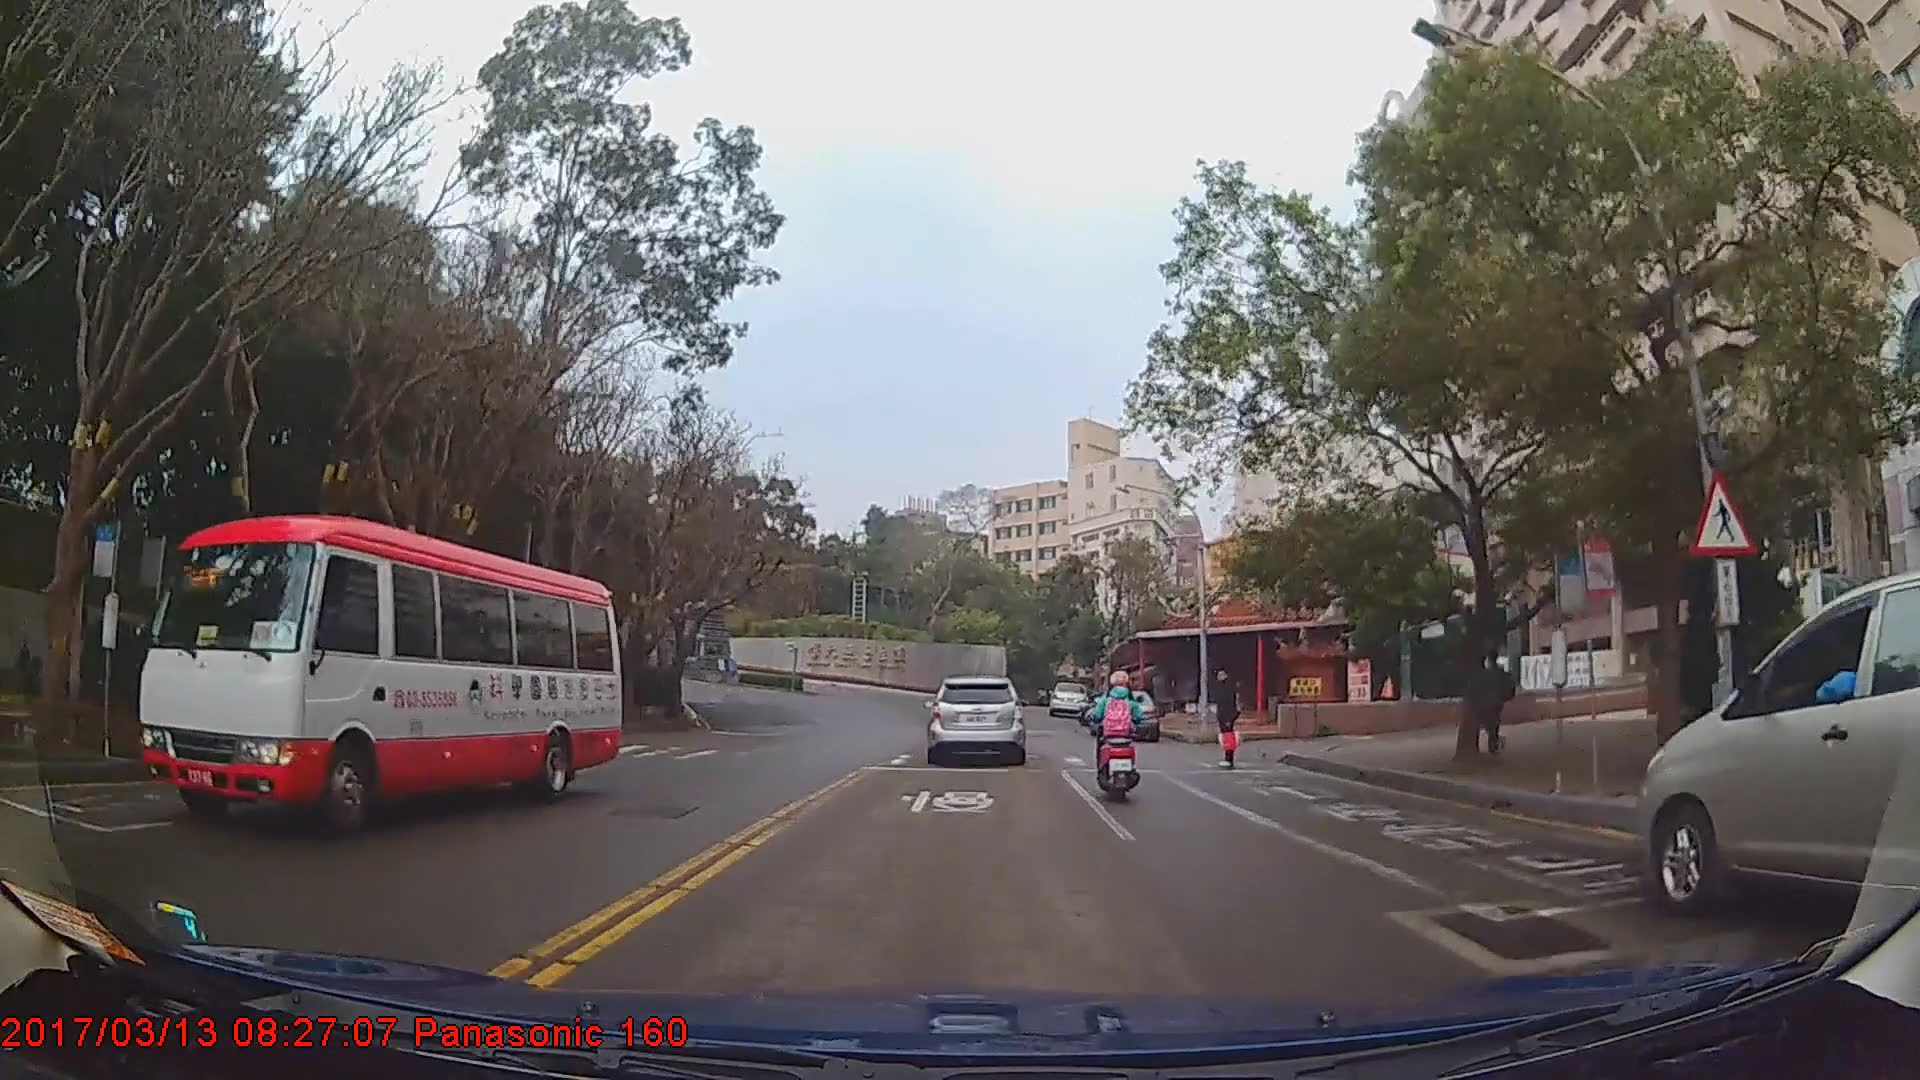pedestrian: (1475, 646, 1516, 753), (1213, 663, 1246, 769)
rider: (1086, 668, 1145, 800)
vehicle: (138, 513, 628, 838), (1638, 570, 1920, 931), (924, 672, 1027, 762), (1049, 680, 1086, 716)
